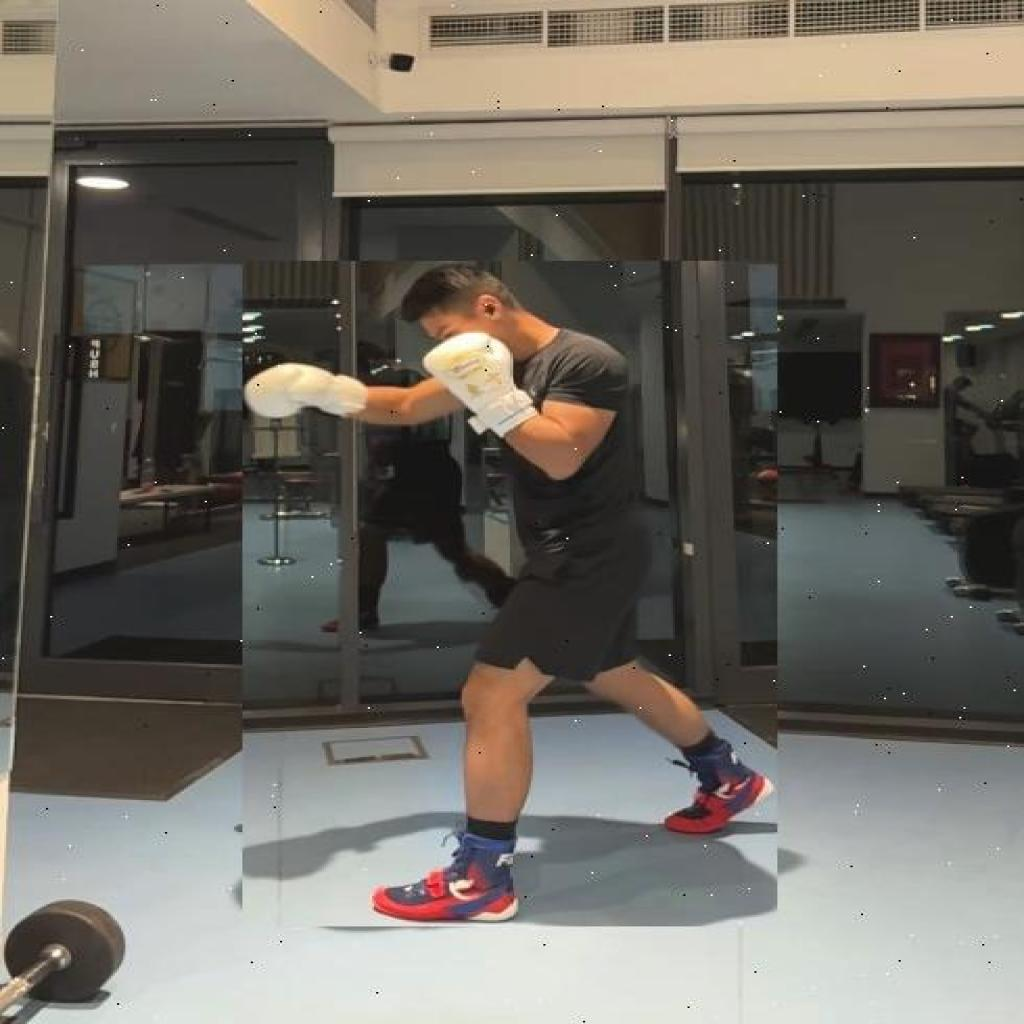cross: (242, 261, 776, 926)
